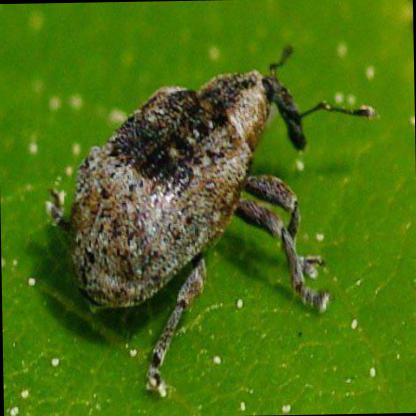ash weevil: (52, 63, 329, 397)
